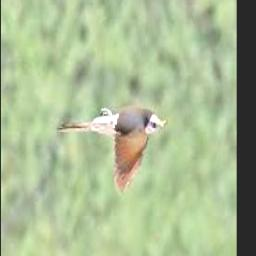Cuckoo: (57, 108, 167, 195)
